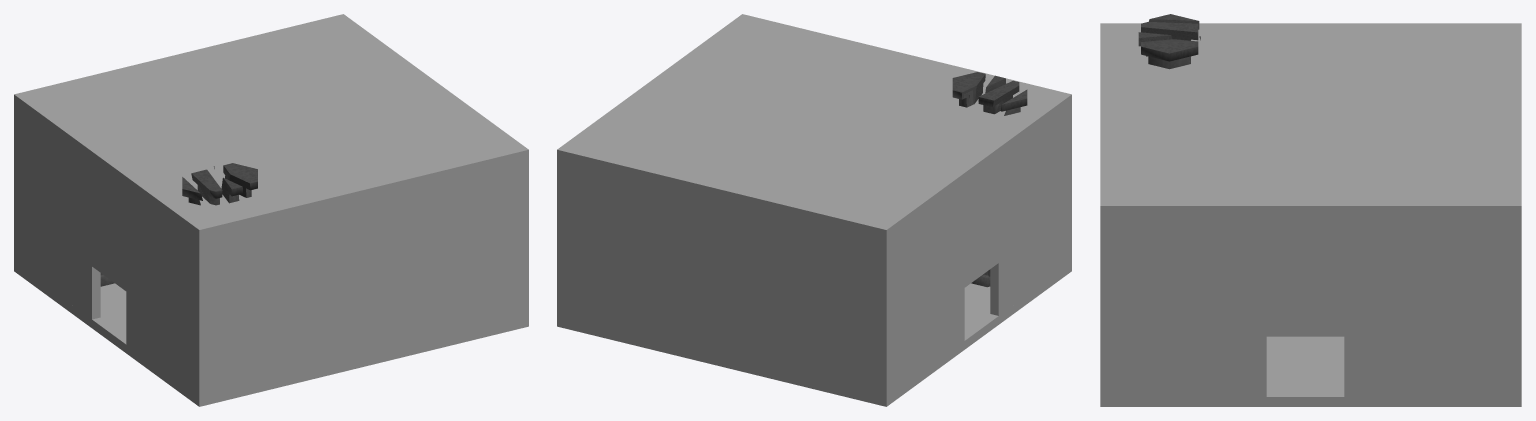
File: RoomTest1.fbx
3 renders of one model, left to right at view 1: azimuth 30°, elevation 25°; view 2: azimuth 150°, elevation 25°; view 3: azimuth 270°, elevation 25°, orthographic. The views are drawn at different scales.
Visible parts, largest first — view 1: RoofRoom, WallingRoom1, WallingExit, RoomGround, WallingExitExtend2, WallingExitExtend1, WallEnterConect2, WallEnter, WallingRoom2, pasted__pasted__pCylinder3_frag_006, pasted__pasted__pCylinder3_frag_004; view 2: RoofRoom, WallingRoom2, WallingExit, RoomGround, WallingExitExtend2, WallingExitExtend1, WallEnter, pasted__pasted__pCylinder3_frag_006, pasted__pasted__pCylinder3_frag_004; view 3: RoofRoom, WallEnter, WallEnterConect2, WallEnterConect1, RoomGround, WallingRoom2, WallingRoom1, pasted__pasted__pCylinder3_frag_006, pasted__pasted__pCylinder3_frag_004.
Boxes of the visible parts, x1,y1,x2,y2 form: RoofRoom: (14,14,528,238); WallingRoom1: (194,150,528,397); WallingExit: (48,117,172,372); RoomGround: (14,262,528,406); WallingExitExtend2: (165,203,207,397); WallingExitExtend1: (19,97,55,286); WallEnterConect2: (486,125,528,319); WallEnter: (369,39,494,126); WallingRoom2: (14,95,18,265); pasted__pasted__pCylinder3_frag_006: (223,163,257,197); pasted__pasted__pCylinder3_frag_004: (191,169,222,205); RoofRoom: (557,14,1071,238); WallingRoom2: (557,150,891,397); WallingExit: (913,117,1037,372); RoomGround: (557,262,1071,406); WallingExitExtend2: (1030,94,1071,286); WallingExitExtend1: (883,203,920,394); WallEnter: (591,39,716,126); pasted__pasted__pCylinder3_frag_006: (952,72,985,107); pasted__pasted__pCylinder3_frag_004: (978,80,1019,114); RoofRoom: (1100,23,1521,216); WallEnter: (1178,201,1443,396); WallEnterConect2: (1100,201,1177,396); WallEnterConect1: (1444,201,1510,396); RoomGround: (1100,336,1521,406); WallingRoom2: (1510,207,1521,396); WallingRoom1: (1100,207,1111,396); pasted__pasted__pCylinder3_frag_006: (1141,39,1198,69); pasted__pasted__pCylinder3_frag_004: (1141,22,1198,40).
Size of the model in its own units: 19.5 by 11.82 by 19.
